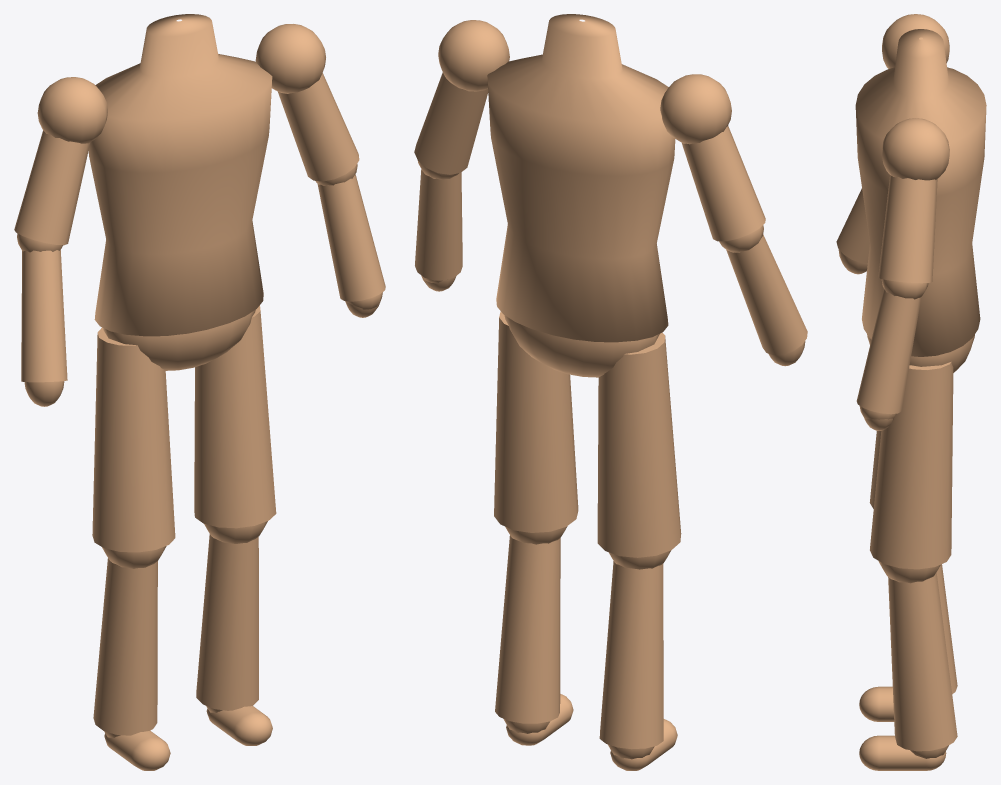
The model's file is athletic.glb.
The picture shows the model from 3 angles, left to right: view 1: azimuth 30°, elevation 25°; view 2: azimuth 150°, elevation 25°; view 3: azimuth 270°, elevation 25°; orthographic projection. The views are drawn at different scales.
Visible parts, largest first — view 1: torso_sculpt, thigh_r, thigh_l, calf_r, calf_l, forearm_r, upper_arm_r, forearm_l, upper_arm_l, shoulder_r, shoulder_l, pelvis (+5 smaller); view 2: torso_sculpt, thigh_r, thigh_l, calf_l, calf_r, upper_arm_r, forearm_r, upper_arm_l, forearm_l, shoulder_r, pelvis, shoulder_l (+2 smaller); view 3: torso_sculpt, thigh_l, calf_l, upper_arm_l, forearm_l, shoulder_l, foot_l, forearm_r, shoulder_r, foot_r, calf_r, pelvis (+4 smaller).
Part boxes in pixels (box(x1,y1,x2,y2)): torso_sculpt: box(88, 14, 272, 336); thigh_r: box(92, 327, 175, 552); thigh_l: box(194, 305, 276, 528); calf_r: box(93, 558, 157, 735); calf_l: box(196, 534, 258, 710); forearm_r: box(21, 250, 67, 382); upper_arm_r: box(14, 130, 90, 245); forearm_l: box(317, 174, 385, 301); upper_arm_l: box(277, 73, 359, 181); shoulder_r: box(37, 77, 107, 143); shoulder_l: box(255, 24, 325, 93); pelvis: box(103, 310, 255, 370); torso_sculpt: box(487, 14, 675, 342); thigh_r: box(597, 332, 681, 557); thigh_l: box(494, 311, 578, 532); calf_l: box(495, 535, 560, 723); calf_r: box(599, 561, 663, 749); upper_arm_r: box(682, 125, 765, 241); forearm_r: box(726, 234, 807, 355); upper_arm_l: box(414, 72, 488, 174); forearm_l: box(415, 169, 462, 280); shoulder_r: box(660, 74, 731, 144); pelvis: box(504, 315, 659, 377); shoulder_l: box(438, 20, 509, 91); torso_sculpt: box(855, 29, 986, 356); thigh_l: box(870, 361, 953, 569); calf_l: box(888, 572, 957, 751); upper_arm_l: box(878, 175, 937, 283); forearm_l: box(856, 289, 921, 414); shoulder_l: box(882, 118, 949, 180); foot_l: box(859, 735, 946, 770); forearm_r: box(836, 188, 869, 263); shoulder_r: box(882, 14, 949, 68); foot_r: box(859, 686, 894, 721); calf_r: box(936, 564, 957, 693); pelvis: box(867, 334, 974, 372).
Bounding box in the file's own units: 0.7957 × 1.48 × 0.2862.
